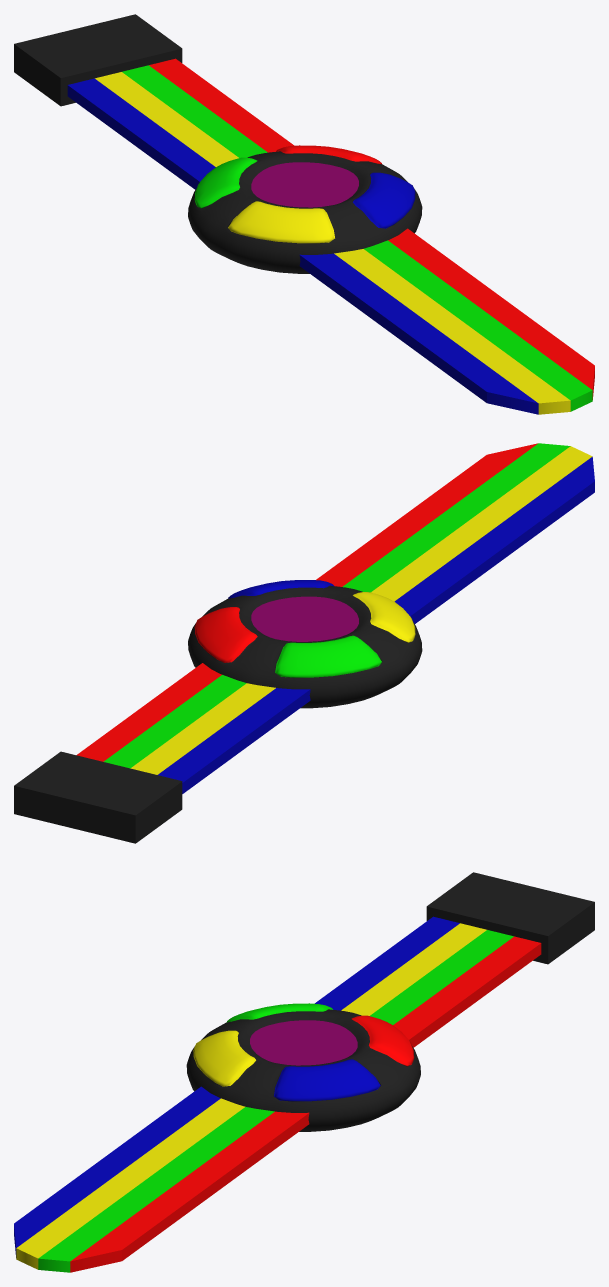
Rendered from SimonWatch.fbx.
3 renders of one model, top to bottom at view 1: azimuth 30°, elevation 25°; view 2: azimuth 150°, elevation 25°; view 3: azimuth 330°, elevation 25°, orthographic.
Parts seen in each view (by area): view 1: SimonWatchBand, SimonWatchBody, SimonWatchScreen; view 2: SimonWatchBand, SimonWatchBody, SimonWatchScreen; view 3: SimonWatchBand, SimonWatchBody, SimonWatchScreen.
Boxes of the visible parts, bbox=[...] form: SimonWatchBand: bbox=[14, 14, 594, 414]; SimonWatchBody: bbox=[188, 145, 422, 273]; SimonWatchScreen: bbox=[251, 162, 358, 207]; SimonWatchBand: bbox=[14, 443, 594, 843]; SimonWatchBody: bbox=[188, 580, 422, 708]; SimonWatchScreen: bbox=[251, 596, 358, 641]; SimonWatchBand: bbox=[14, 872, 594, 1272]; SimonWatchBody: bbox=[186, 1003, 420, 1131]; SimonWatchScreen: bbox=[250, 1020, 357, 1065].
Bounding box in the file's own units: 3.79 × 1.26 × 15.89.
